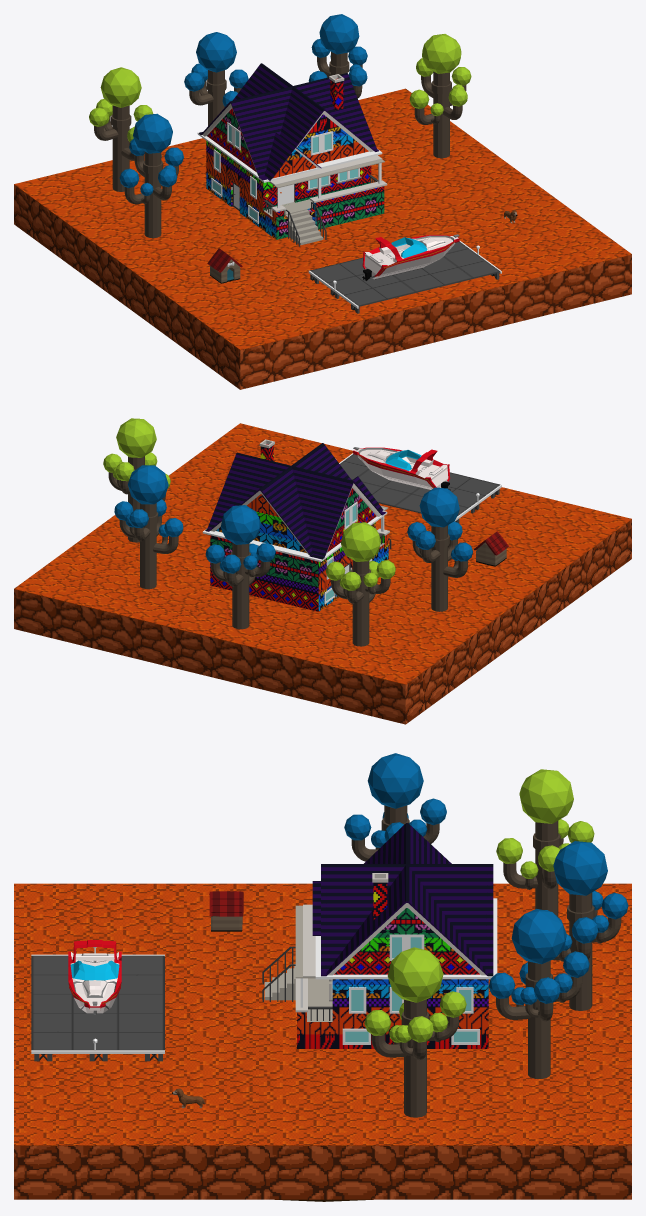
The picture shows the model from 3 angles, top to bottom: view 1: azimuth 30°, elevation 25°; view 2: azimuth 150°, elevation 25°; view 3: azimuth 270°, elevation 25°; orthographic projection. The views are drawn at different scales.
Visible parts, largest first — view 1: Cube.001, Cube.966, VEHICLES_BOAT, OBJRANDOM_DOGHOUSE; view 2: Cube.001, Cube.966, VEHICLES_BOAT, OBJRANDOM_DOGHOUSE; view 3: Cube.001, Cube.966, VEHICLES_BOAT, OBJRANDOM_DOGHOUSE.
Boxes of the visible parts, <box> form: Cube.001: <box>14,14,631,389</box>; Cube.966: <box>197,63,387,246</box>; VEHICLES_BOAT: <box>362,234,459,280</box>; OBJRANDOM_DOGHOUSE: <box>207,248,242,283</box>; Cube.001: <box>14,418,631,724</box>; Cube.966: <box>202,439,391,611</box>; VEHICLES_BOAT: <box>353,447,450,490</box>; OBJRANDOM_DOGHOUSE: <box>473,531,508,566</box>; Cube.001: <box>14,753,631,1199</box>; Cube.966: <box>262,823,497,1048</box>; VEHICLES_BOAT: <box>68,940,121,1014</box>; OBJRANDOM_DOGHOUSE: <box>209,891,243,931</box>.
Size of the model in its own units: 4000 by 1730 by 4000.
41 materials, 8 textured.
